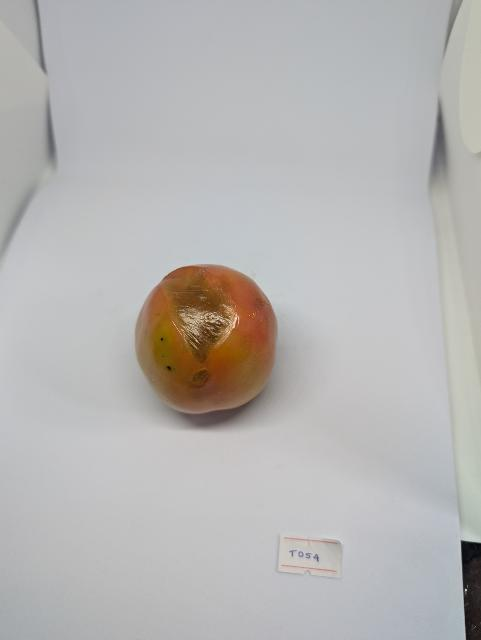defect: (129, 259, 291, 423)
